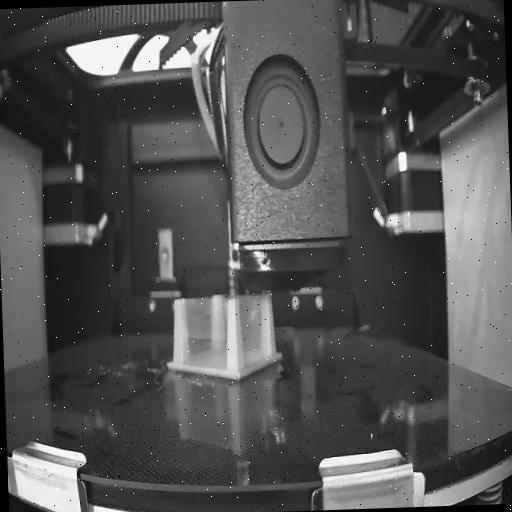stringing: (178, 299, 230, 380), (238, 290, 270, 374)
